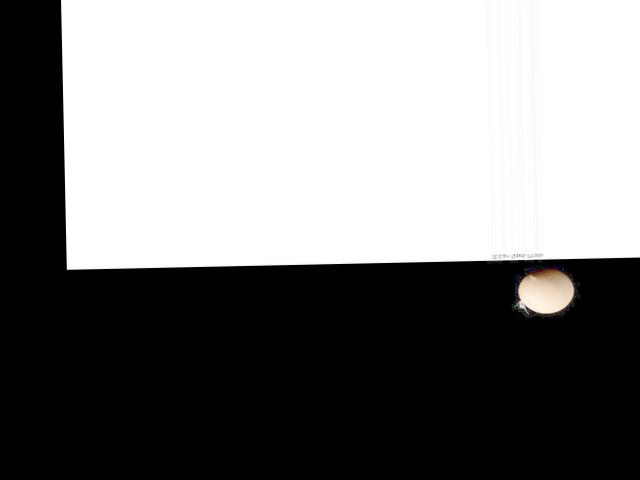egg: (518, 268, 575, 313)
